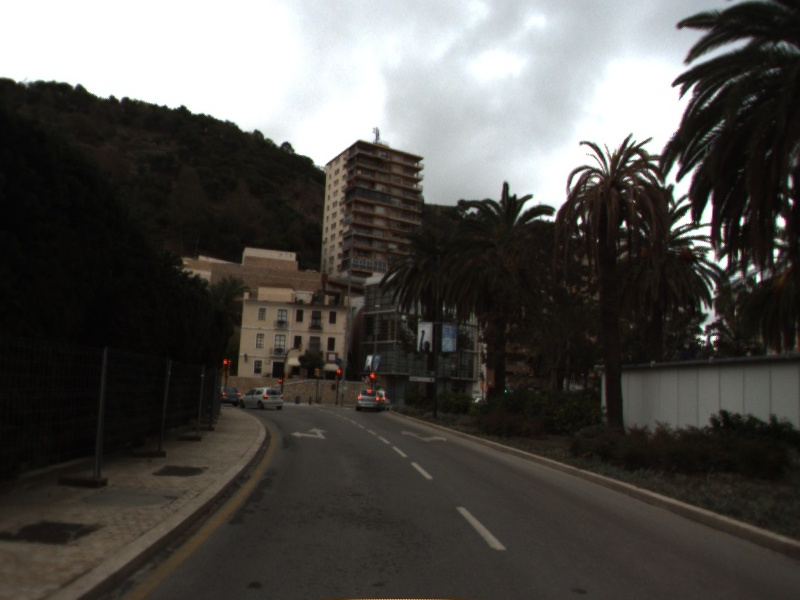STRAIGHT_LEFT: (288, 426, 331, 441)
STRAIGHT_RIGHT: (399, 427, 450, 445)
